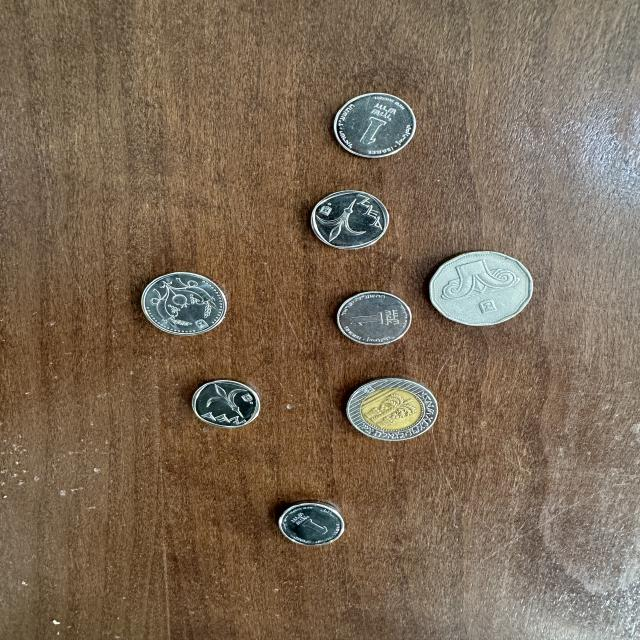1-shekel: (311, 190, 391, 254), (332, 94, 410, 159), (332, 290, 411, 352), (273, 494, 344, 556), (184, 378, 256, 435)
10-shekel: (345, 374, 440, 449)
2-shekel: (142, 275, 238, 343)
5-shekel: (427, 250, 534, 338)
